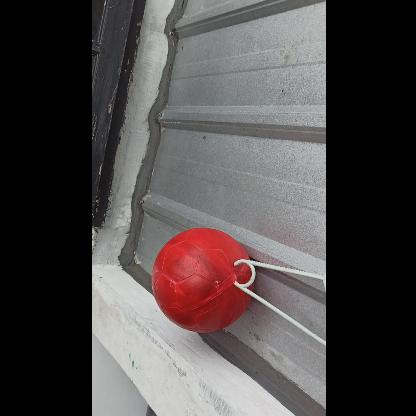red_ball: (149, 228, 253, 332)
